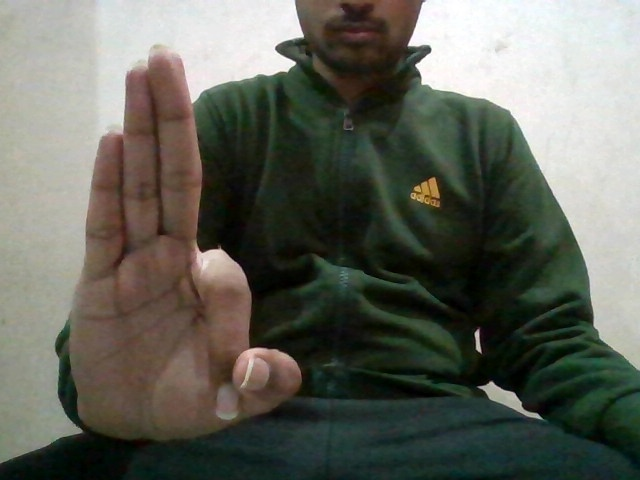F: (60, 40, 331, 441)
